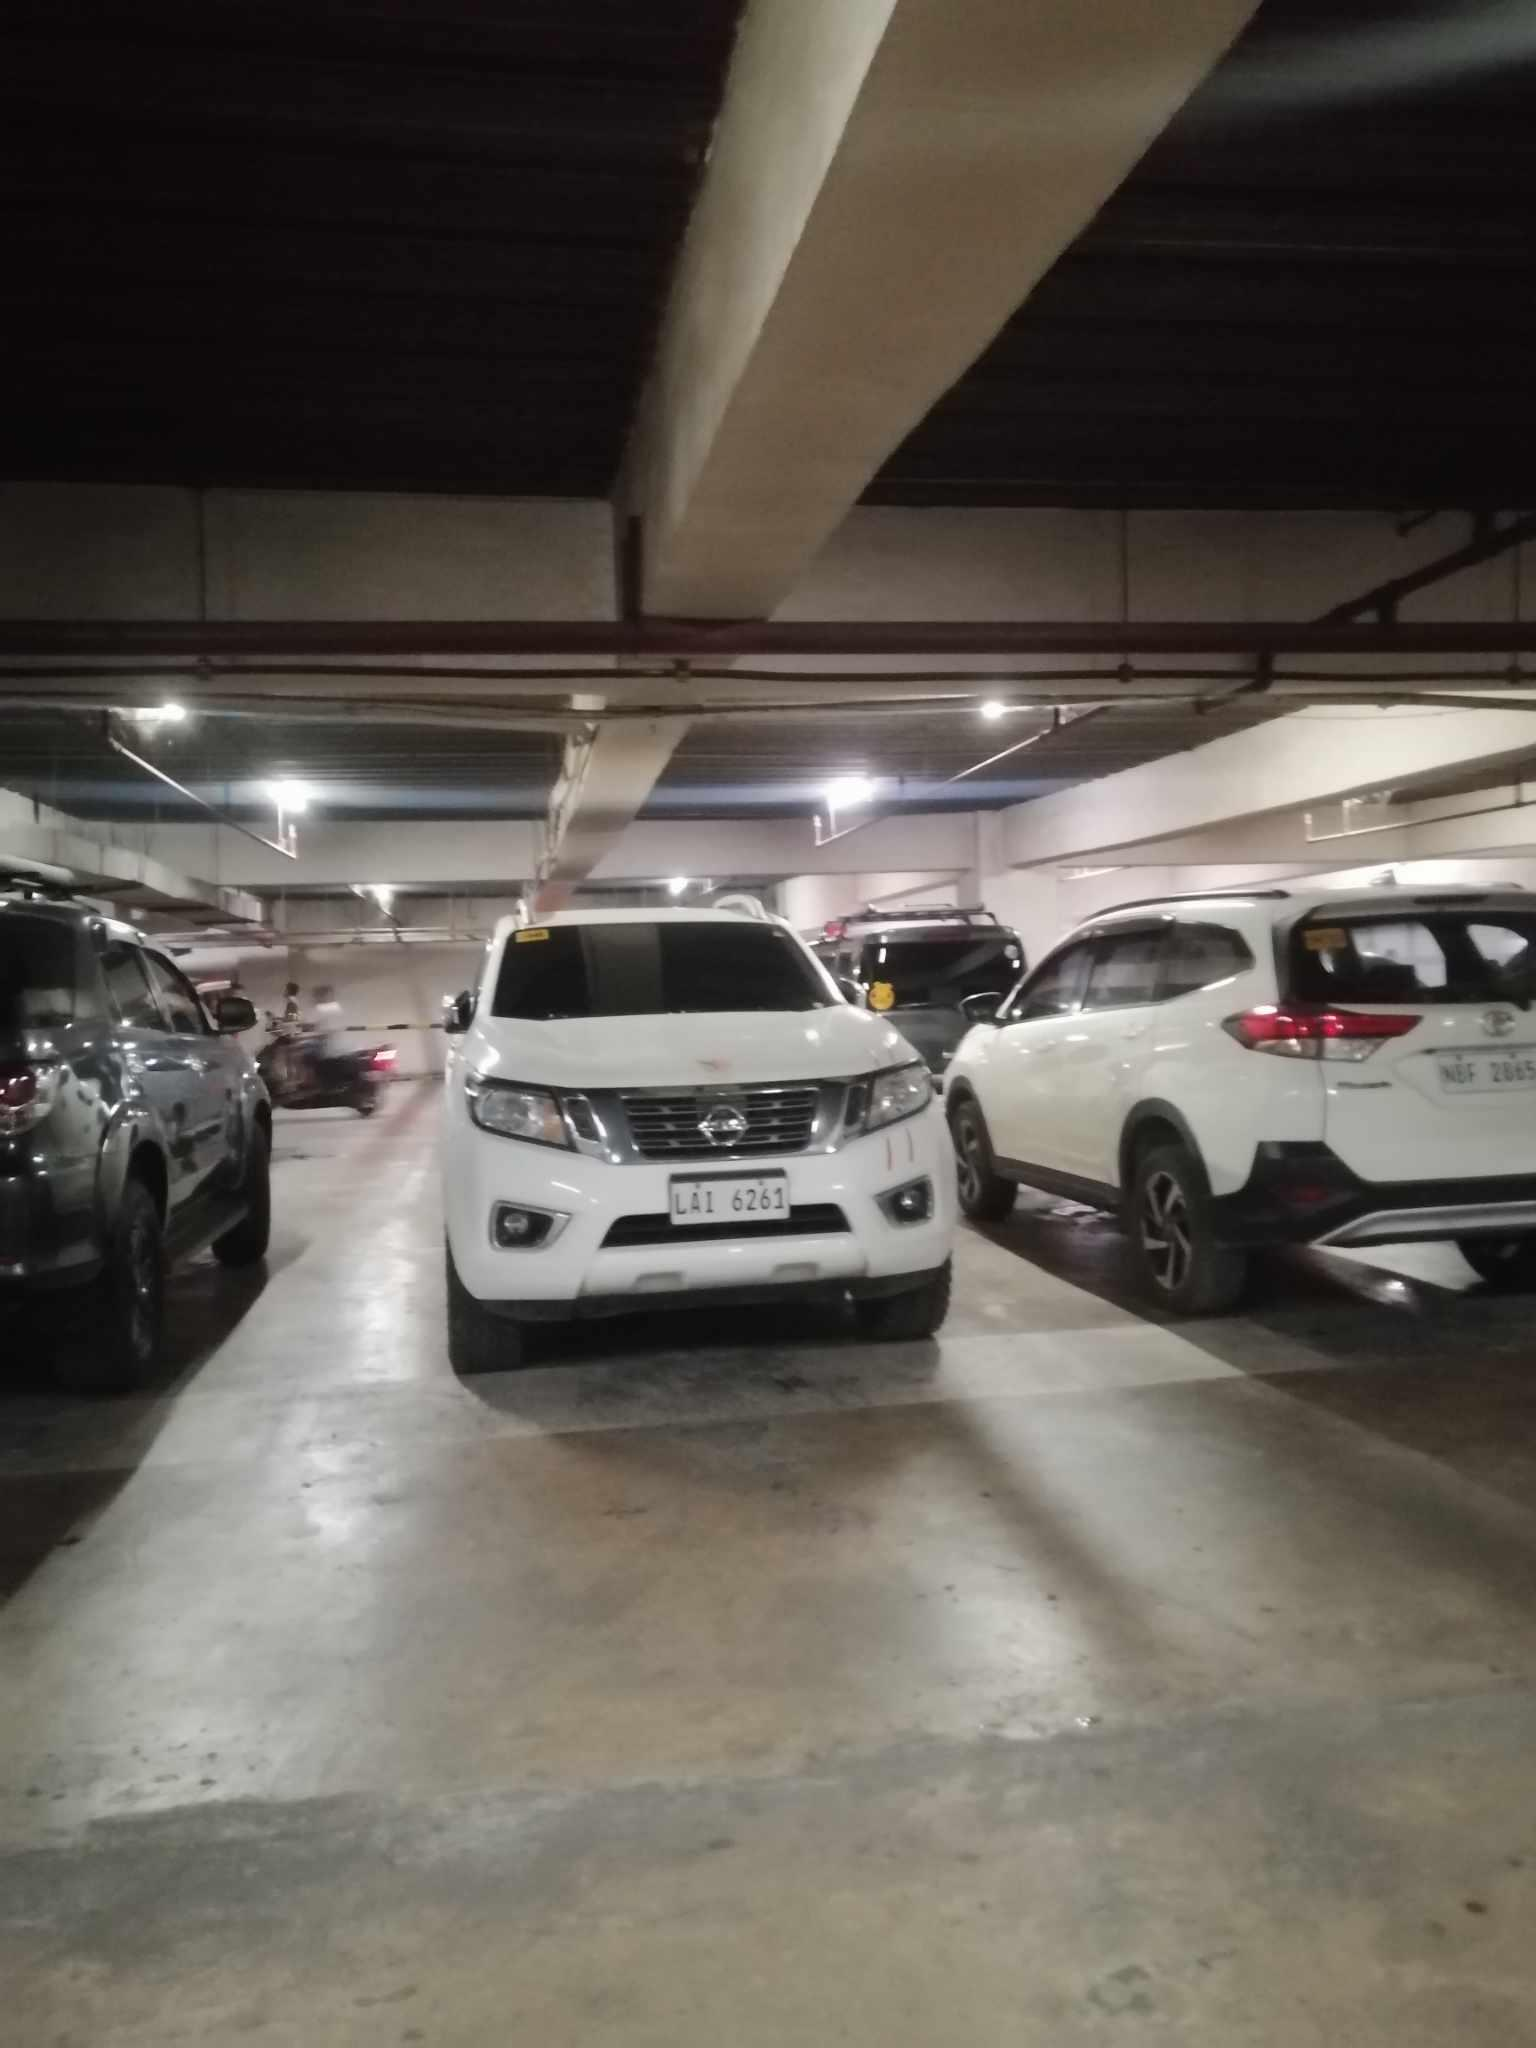license-plate: (669, 1172, 792, 1228)
